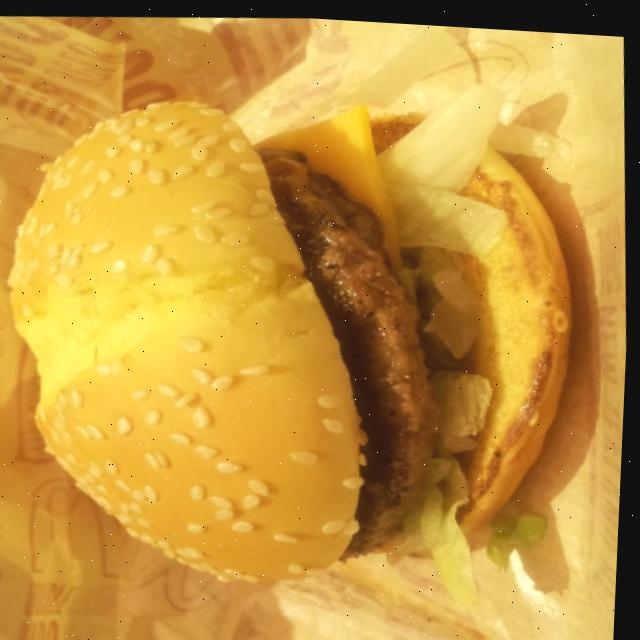汉堡快餐: (0, 53, 601, 608)
